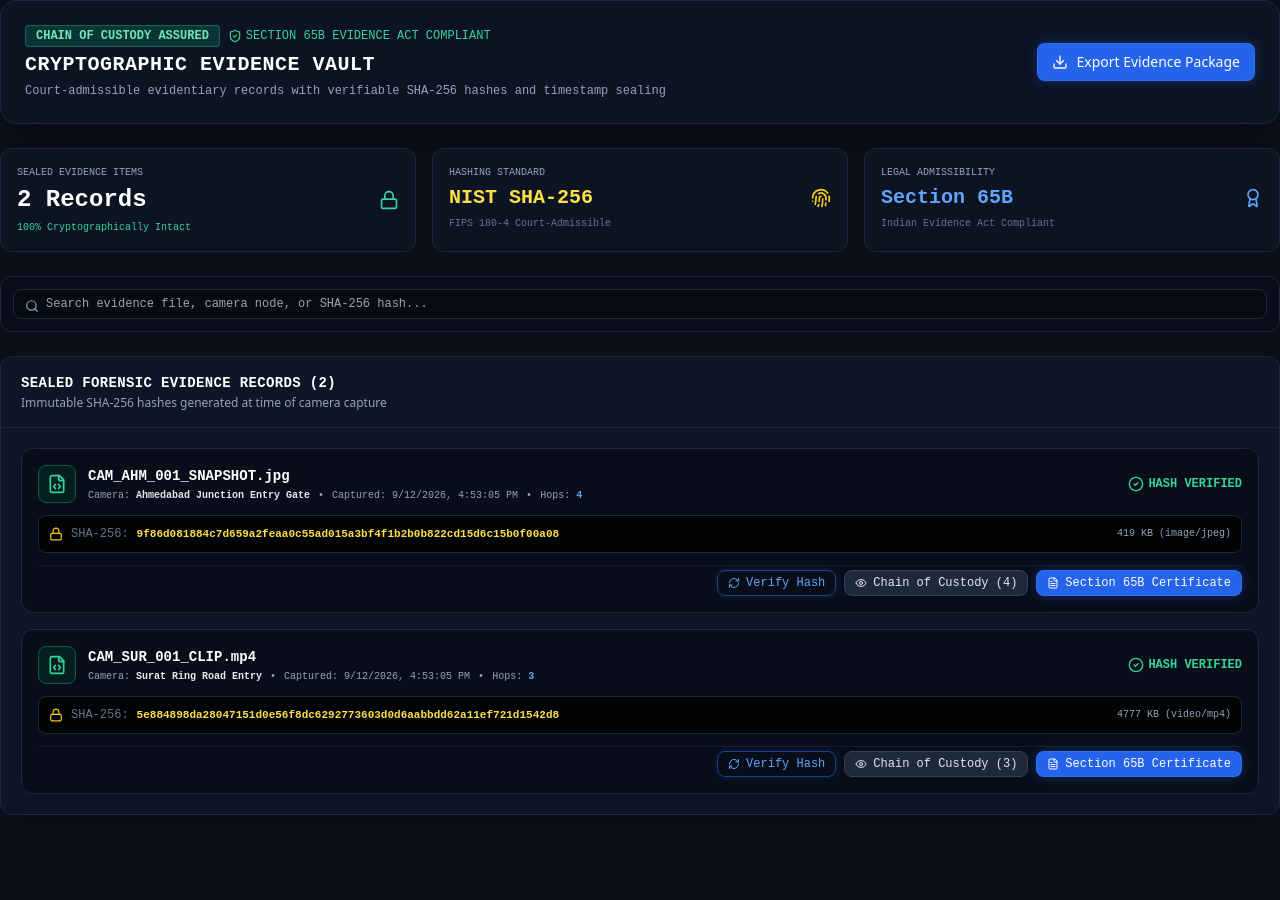
Test: System Health, Forensic Vault & Compliance Audit UI (Module 28) › EvidencePage Component › verifies cryptographic hash on button click
Click the 1st button "Verify Hash": {"x": 777, "y": 583} top-left (717, 570), bottom-right (836, 596)
Wait 800 ms
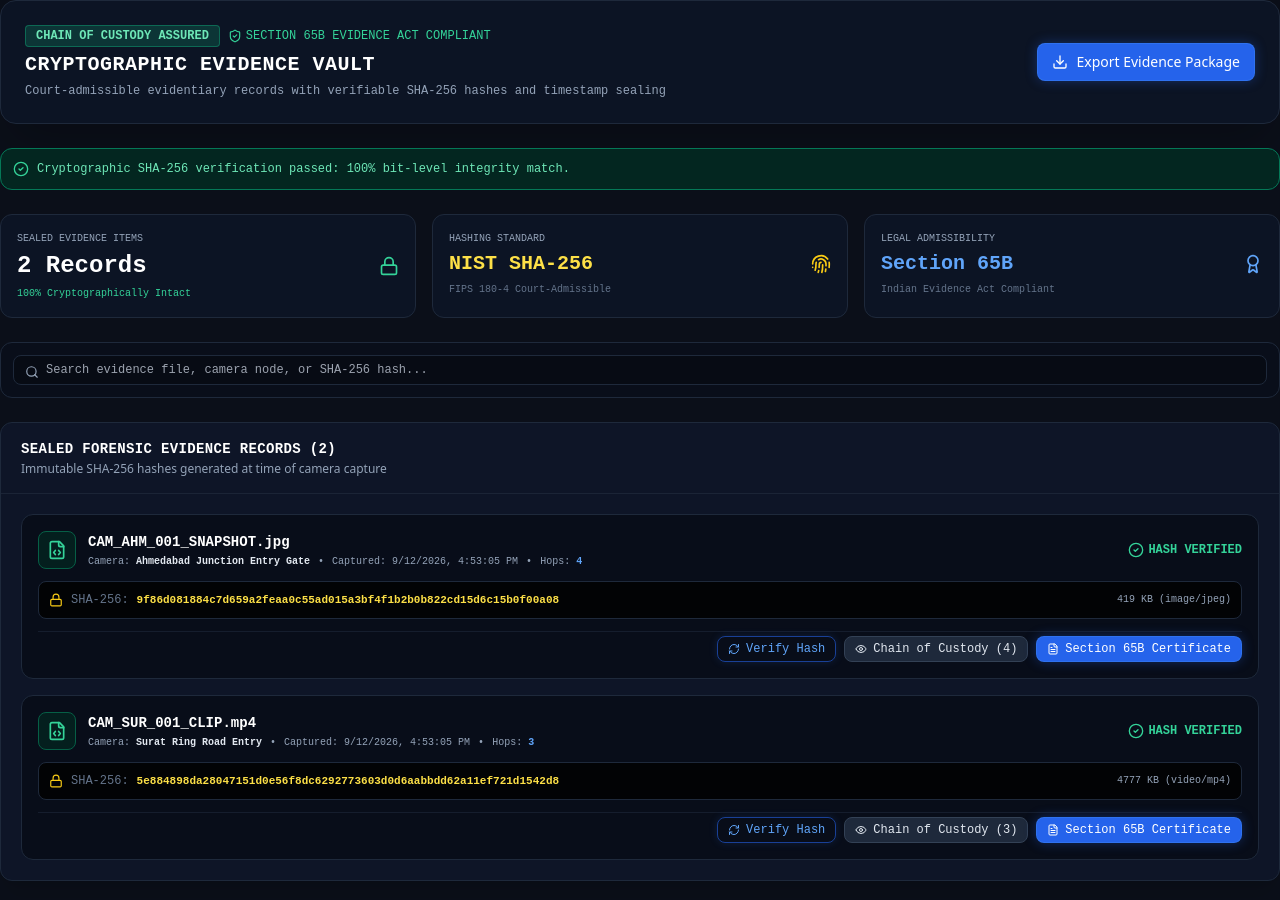
Check: the text "Cryptographic SHA-256 verification passed" is shown, box top-left (37, 162), bottom-right (570, 176)
